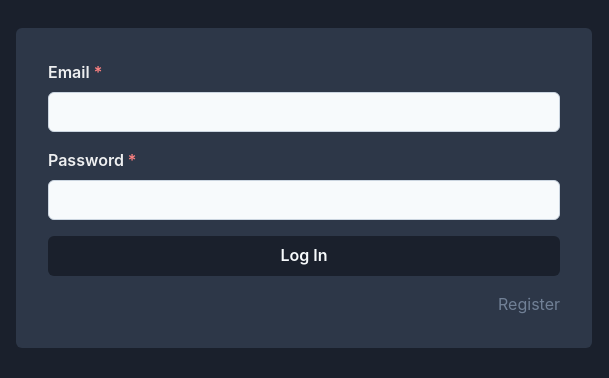
Scenario: login.spec.ts - Login Form › should show error if email is invalid
This screenshot has width=609, height=378.
In the field labelled "Email*": [304, 112] box [48,92,560,132], type "test"
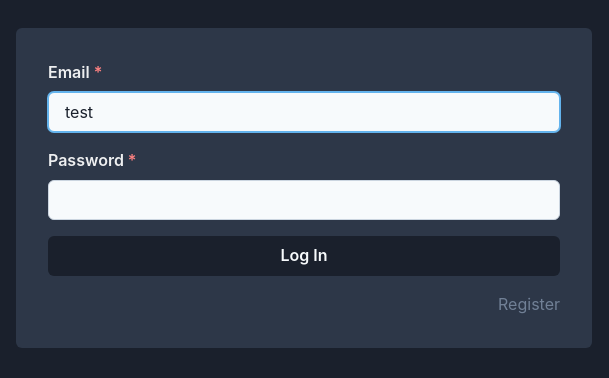
Leave the field labelled "Email*", box [48,92,560,132]
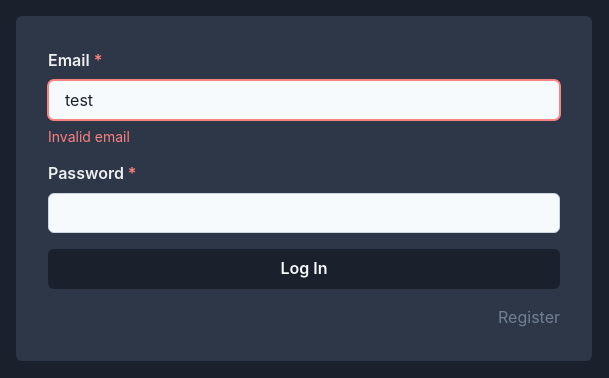
Now the text "Invalid email" is shown, box [48,128,130,144]
